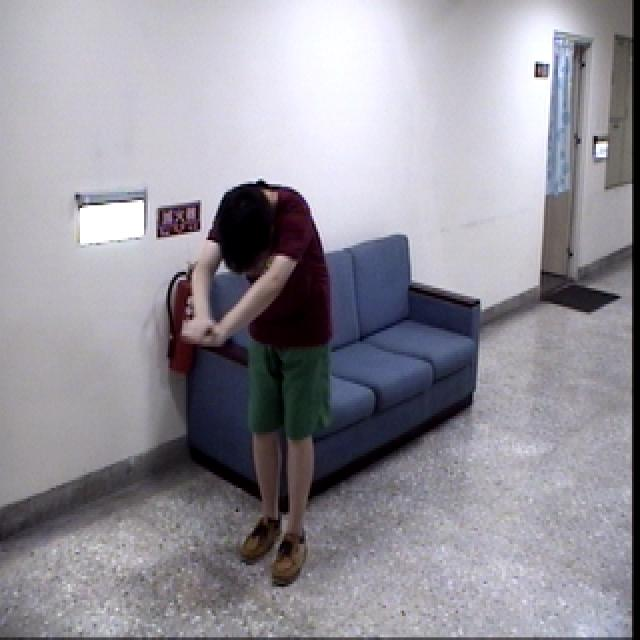bend: (177, 176, 340, 591)
